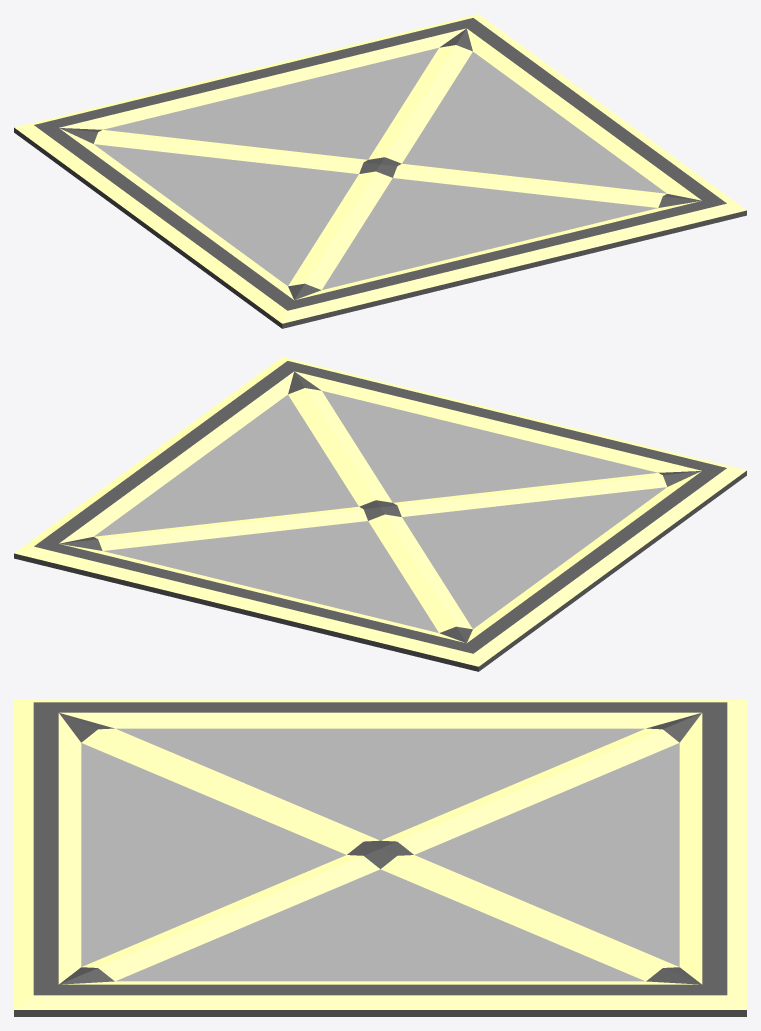
The model's file is floorxlight.fbx.
The picture shows the model from 3 angles, top to bottom: view 1: azimuth 30°, elevation 25°; view 2: azimuth 150°, elevation 25°; view 3: azimuth 270°, elevation 25°; orthographic projection. The views are drawn at different scales.
Visible parts, largest first — view 1: Cube.004; view 2: Cube.004; view 3: Cube.004.
Part boxes in pixels (x1=…): Cube.004: x1=14, y1=14, x2=746, y2=328; Cube.004: x1=14, y1=357, x2=746, y2=671; Cube.004: x1=14, y1=700, x2=746, y2=1016.
Bounding box in the file's own units: 2 × 0.04 × 2.
